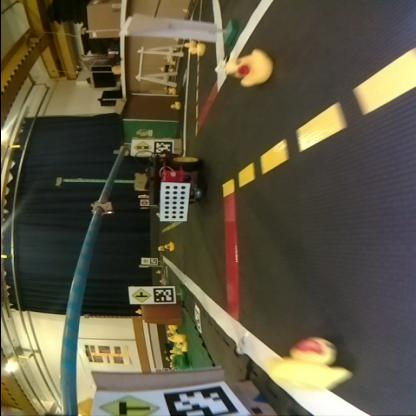Duckie: (268, 336, 348, 390), (225, 49, 266, 85), (188, 44, 202, 54), (162, 241, 172, 248), (182, 41, 191, 47), (169, 102, 177, 107), (134, 310, 142, 314)
Duckiebot: (143, 153, 199, 221)
Intersection sign: (94, 392, 154, 414), (128, 288, 146, 300)
QR code: (160, 382, 238, 414), (152, 286, 174, 304), (152, 140, 172, 154), (192, 304, 200, 330), (148, 258, 156, 264)
Signal sign: (132, 140, 147, 154)
